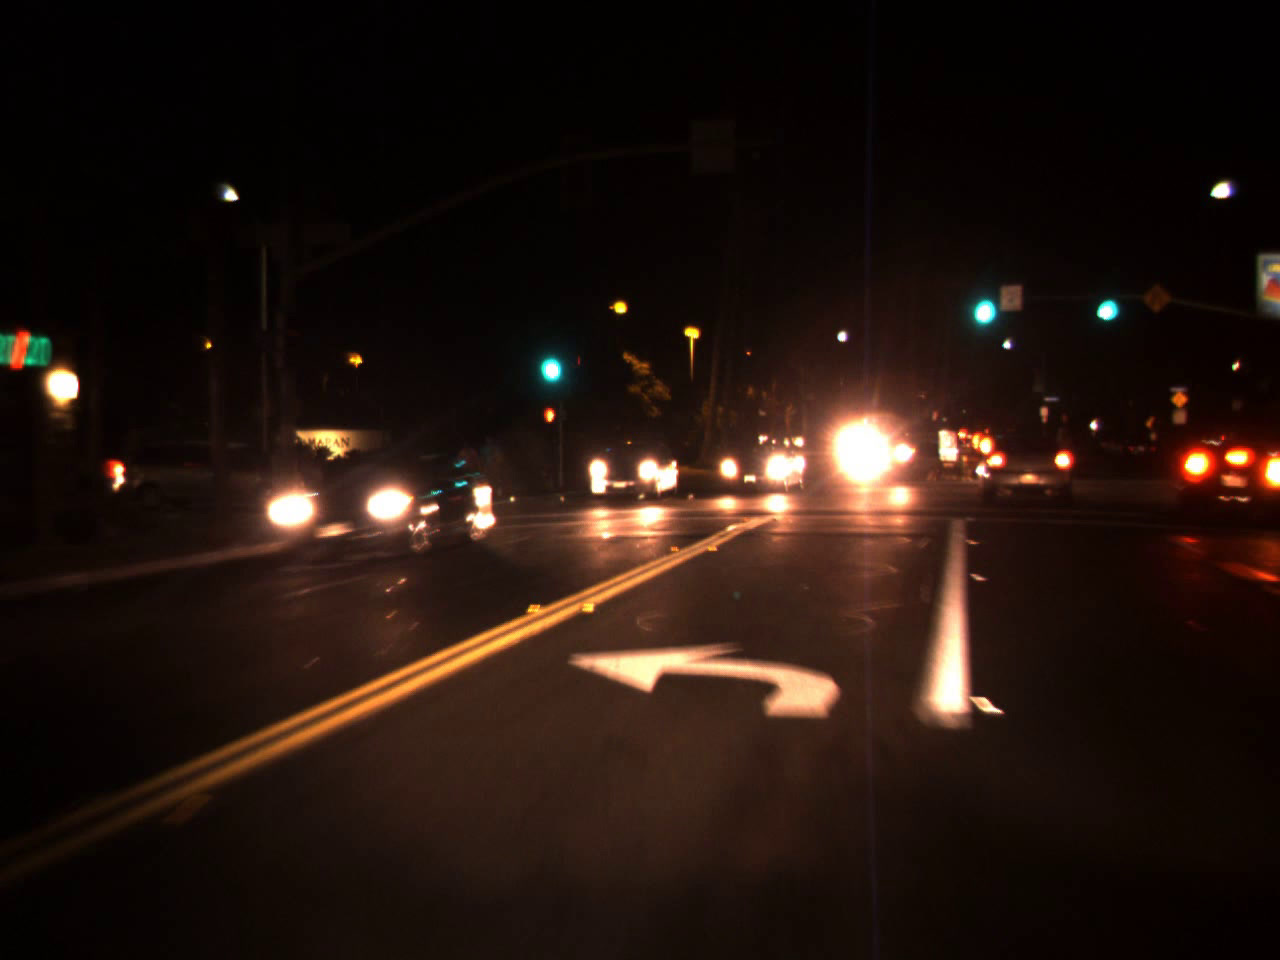go: (965, 268, 1001, 334), (532, 326, 566, 392), (1089, 272, 1122, 329)
